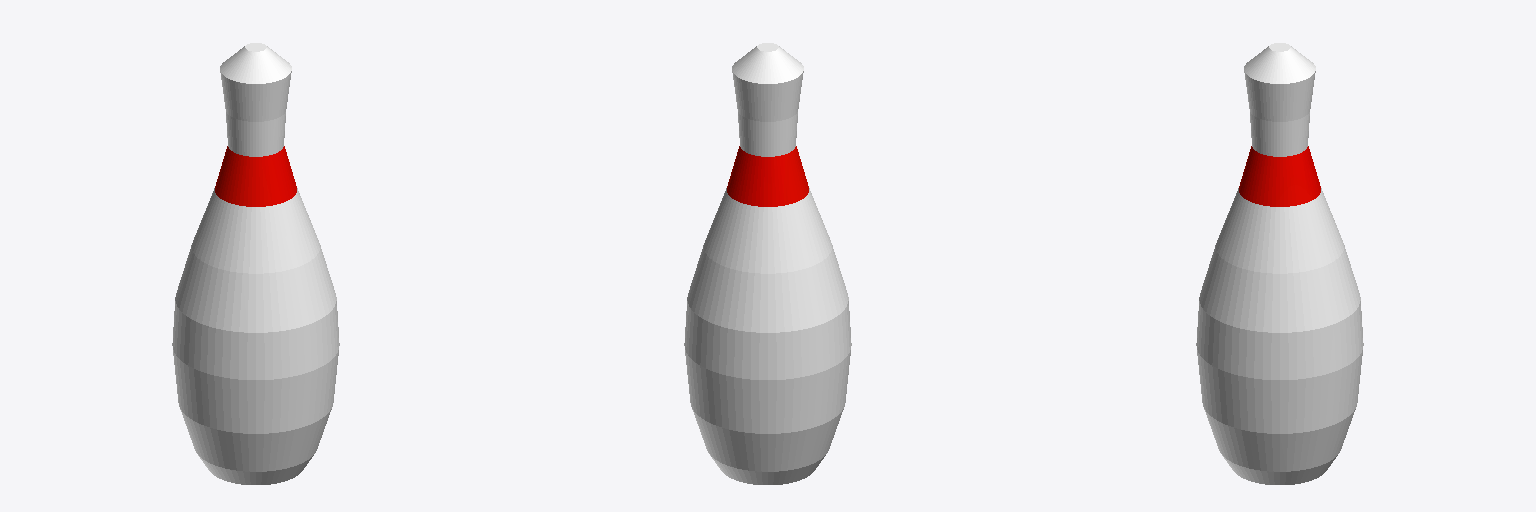
3 views of the same model, side by side, from view 1: azimuth 30°, elevation 25°; view 2: azimuth 150°, elevation 25°; view 3: azimuth 270°, elevation 25° (orthographic).
Parts seen in each view (by area): view 1: Pino_Boliche; view 2: Pino_Boliche; view 3: Pino_Boliche.
Boxes of the visible parts, <box> form: Pino_Boliche: <box>172,43,339,484</box>; Pino_Boliche: <box>684,43,851,484</box>; Pino_Boliche: <box>1196,43,1363,484</box>.
Size of the model in its own units: 1.06 by 2.91 by 1.06.
Materials: 1 (1 with a texture image).